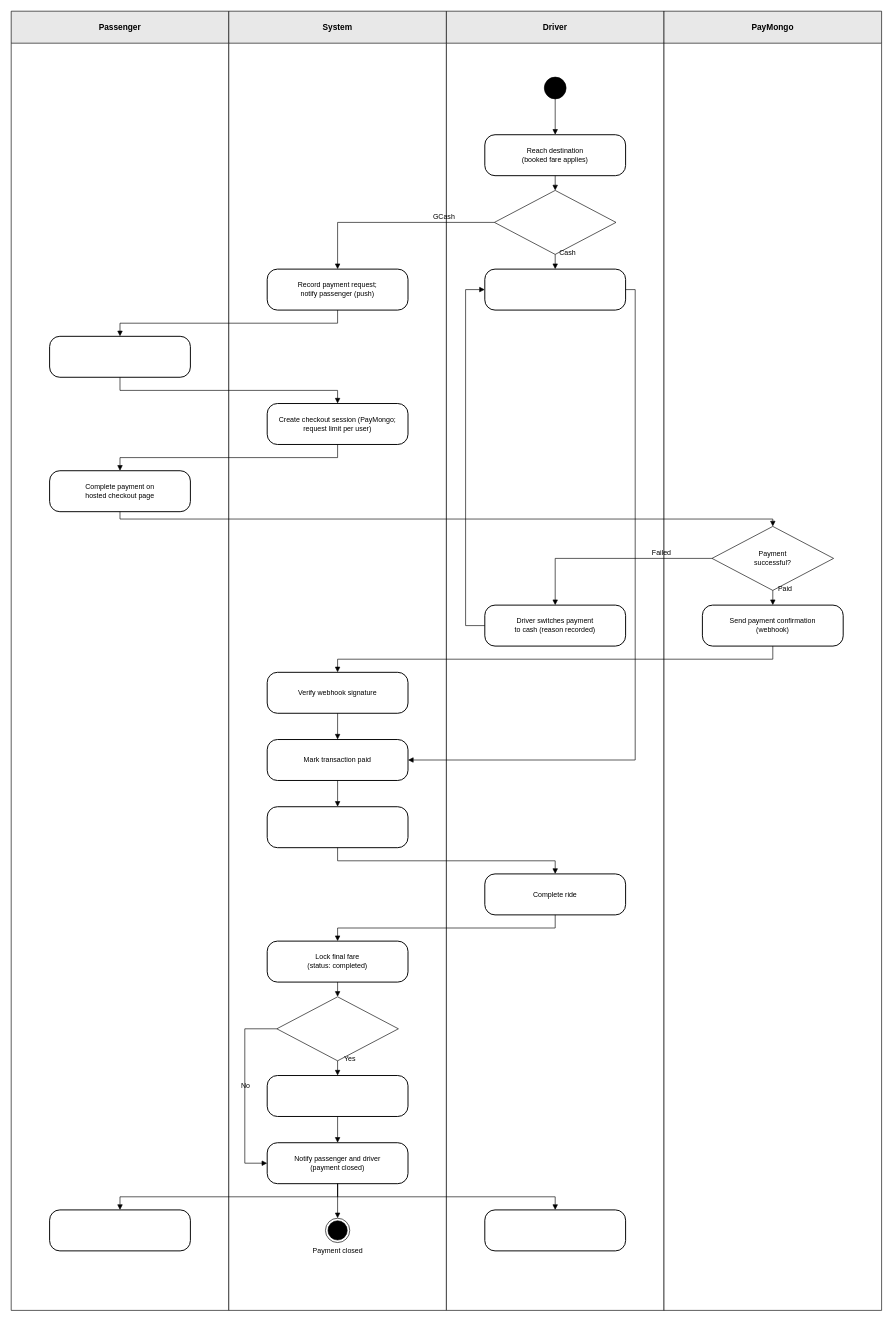
Image size: 893x1322. Some labels were removed from this diagram. The shapes that lost their labels are listed below. From the top down, each one's centre as x and y in pixels, then its label:
pixel 555 222: Payment method?
pixel 555 289: Collect cash and tap Received
pixel 120 356: Open payment screen and choose to pay with GCash
pixel 337 827: Payment confirmed: ride may now be completed
pixel 337 1028: Email receipts turned on?
pixel 337 1096: Send receipt email
pixel 120 1230: View receipt in payment history
pixel 555 1230: Trip counted in earnings (only completed rides count in reports)
